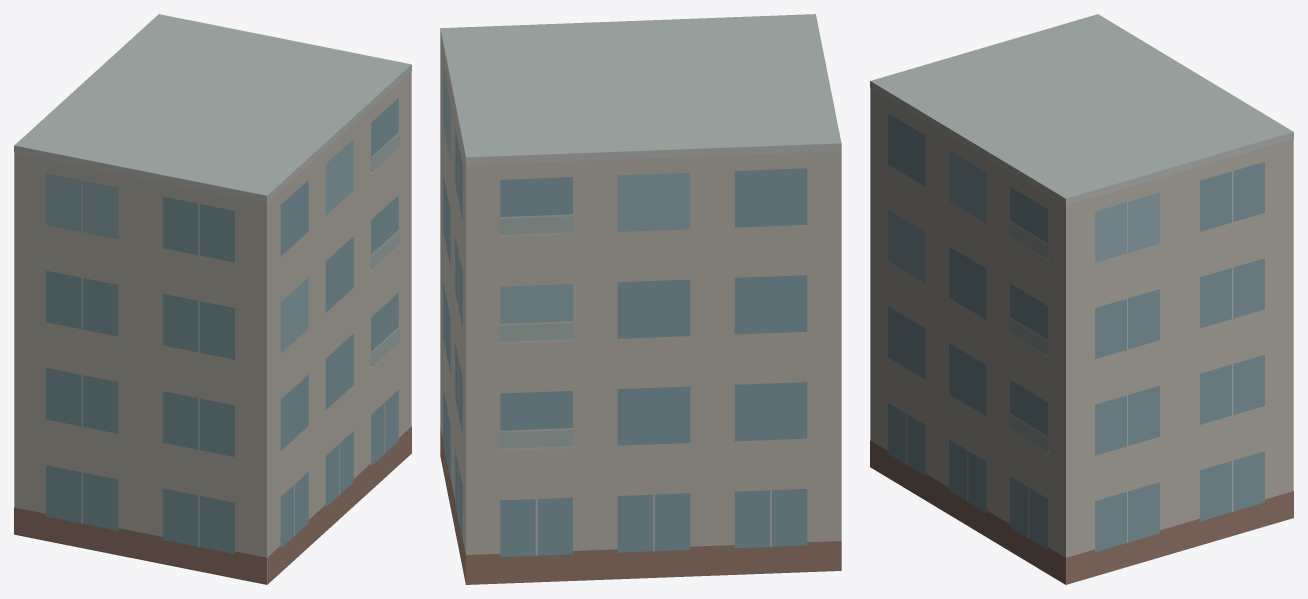
The model's file is survey-upis-33010891.glb.
The picture shows the model from 3 angles, left to right: view 1: azimuth 30°, elevation 25°; view 2: azimuth 150°, elevation 25°; view 3: azimuth 270°, elevation 25°; orthographic projection. The views are drawn at different scales.
Parts seen in each view (by area): view 1: survey-upis-33010891.tmp; view 2: survey-upis-33010891.tmp; view 3: survey-upis-33010891.tmp.
Boxes of the visible parts, x1=… form: survey-upis-33010891.tmp: x1=14, y1=14, x2=411, y2=584; survey-upis-33010891.tmp: x1=440, y1=14, x2=841, y2=584; survey-upis-33010891.tmp: x1=870, y1=14, x2=1293, y2=584.
Size of the model in its own units: 14.15 by 13.79 by 13.72.
